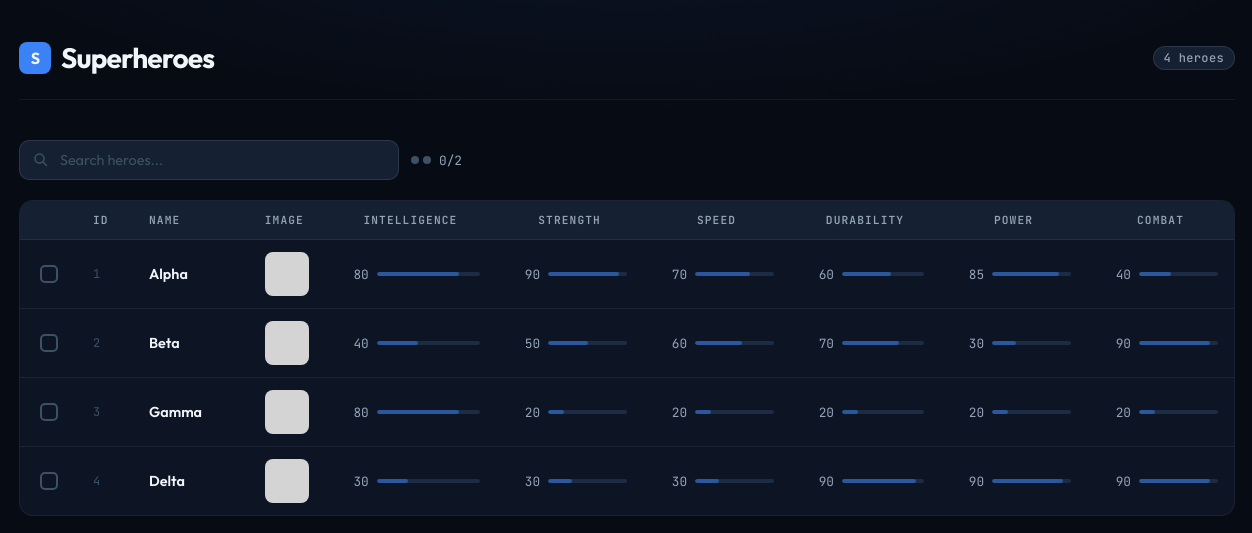
Scenario: search input › filter is case-insensitive (uppercase input)
The image size is (1252, 533).
Type "BETA" into the field with placeholder "Search heroes...". click: (209,160)
box: [19,140,399,180]
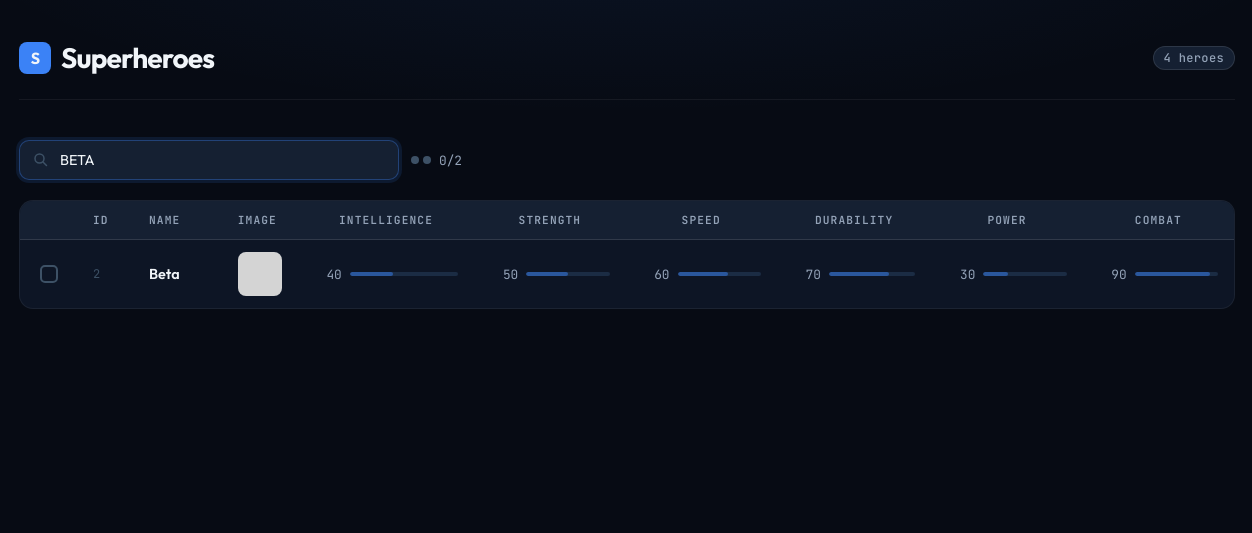
Expected: the text "Beta" is shown, [133,240,222,308]
Now the text "Alpha" is gone
